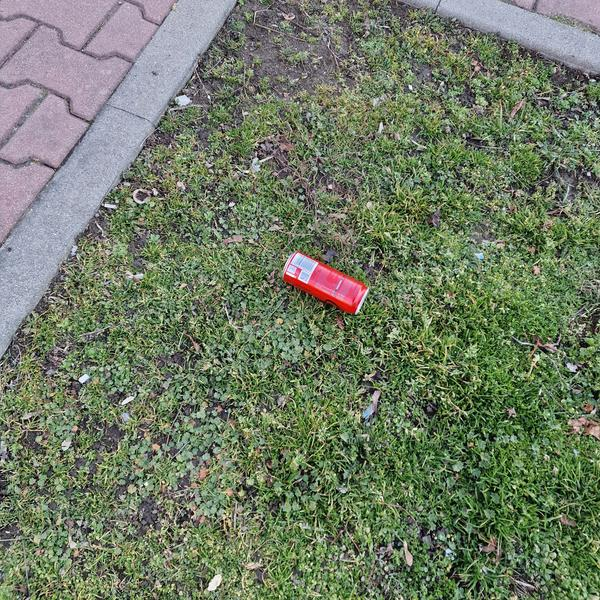can: (277, 247, 372, 318)
